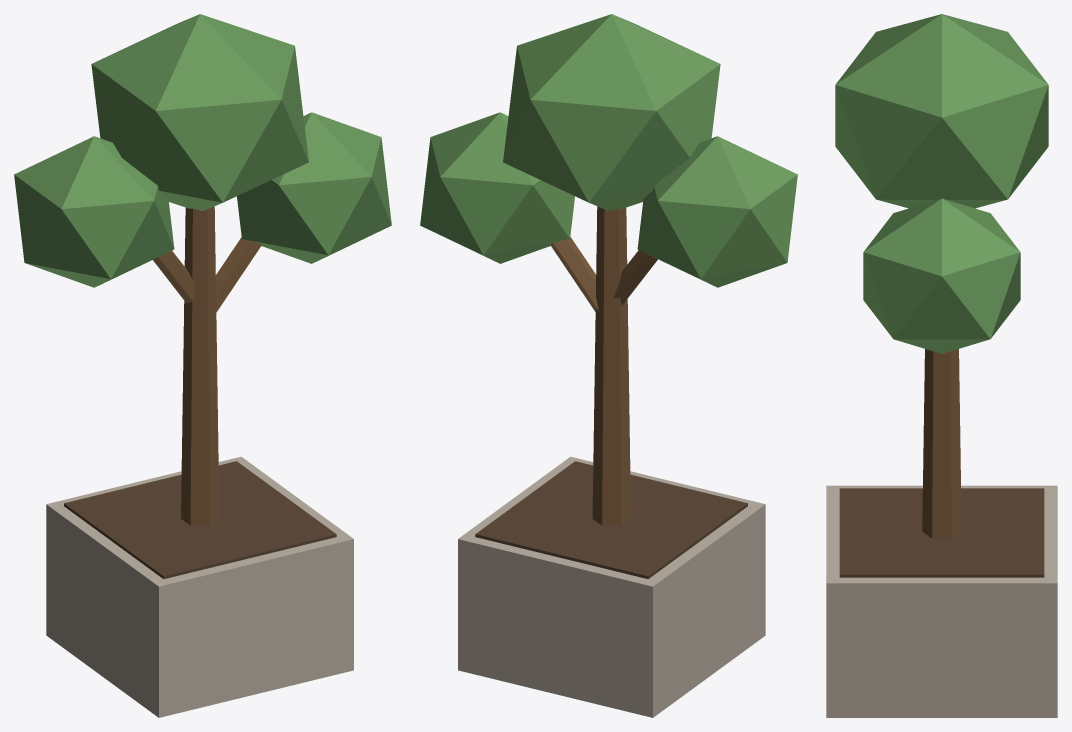
File: objet_arbre_boules.glb
The picture shows the model from 3 angles, left to right: view 1: azimuth 30°, elevation 25°; view 2: azimuth 150°, elevation 25°; view 3: azimuth 270°, elevation 25°; orthographic projection. The views are drawn at different scales.
Parts seen in each view (by area): view 1: objet_arbre_boules; view 2: objet_arbre_boules; view 3: objet_arbre_boules.
Boxes of the visible parts, x1,y1,x2,y2 form: objet_arbre_boules: [14, 14, 391, 717]; objet_arbre_boules: [420, 14, 797, 717]; objet_arbre_boules: [826, 14, 1057, 717].
Bounding box in the file's own units: 1.28 × 2.19 × 0.7.
